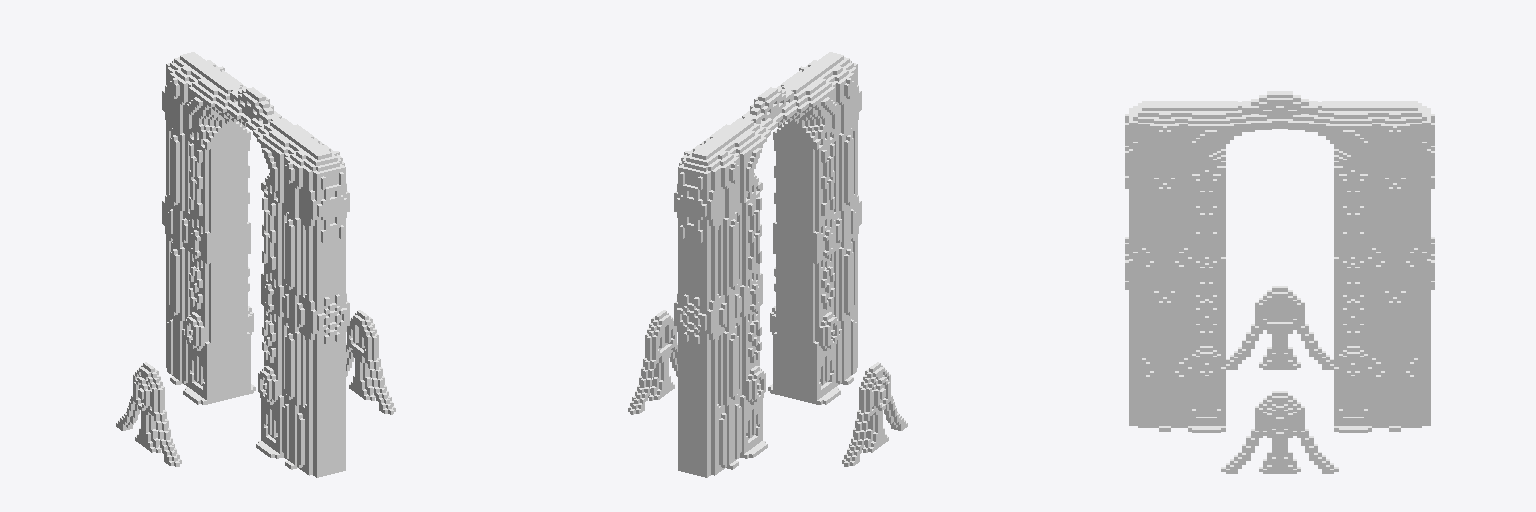
The model's file is Gate.obj.
The picture shows the model from 3 angles: view 1: azimuth 30°, elevation 25°; view 2: azimuth 150°, elevation 25°; view 3: azimuth 270°, elevation 25°; orthographic projection.
Parts seen in each view (by area): view 1: Gate; view 2: Gate; view 3: Gate.
Boxes of the visible parts, <box> form: Gate: <box>116,52,395,477</box>; Gate: <box>628,52,907,477</box>; Gate: <box>1125,91,1434,473</box>.
Size of the model in its own units: 64 by 86 by 74.